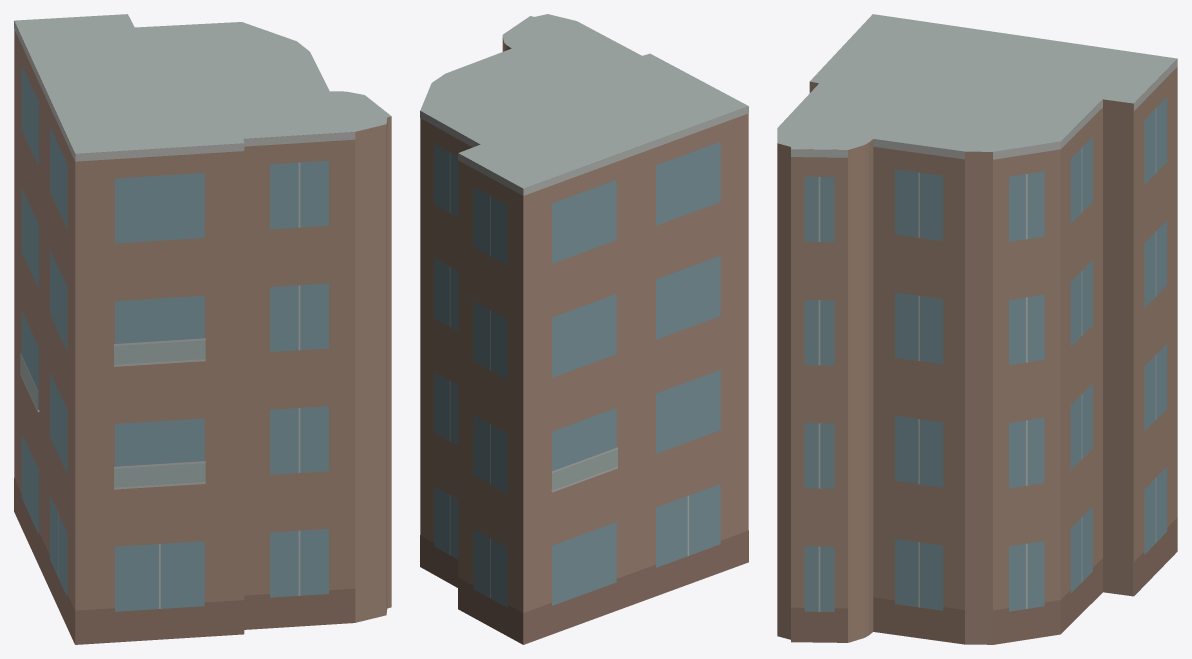
The model's file is survey-upis-33045998.glb.
3 views of the same model, side by side, from view 1: azimuth 30°, elevation 25°; view 2: azimuth 150°, elevation 25°; view 3: azimuth 270°, elevation 25° (orthographic). The views are drawn at different scales.
Parts seen in each view (by area): view 1: survey-upis-33045998.tmp; view 2: survey-upis-33045998.tmp; view 3: survey-upis-33045998.tmp.
Part boxes in pixels (left/top/right/bottom): survey-upis-33045998.tmp: left=14, top=14, right=391, bottom=644; survey-upis-33045998.tmp: left=420, top=14, right=748, bottom=644; survey-upis-33045998.tmp: left=777, top=14, right=1177, bottom=644.
Bounding box in the file's own units: 9.19 × 15.3 × 11.27.
